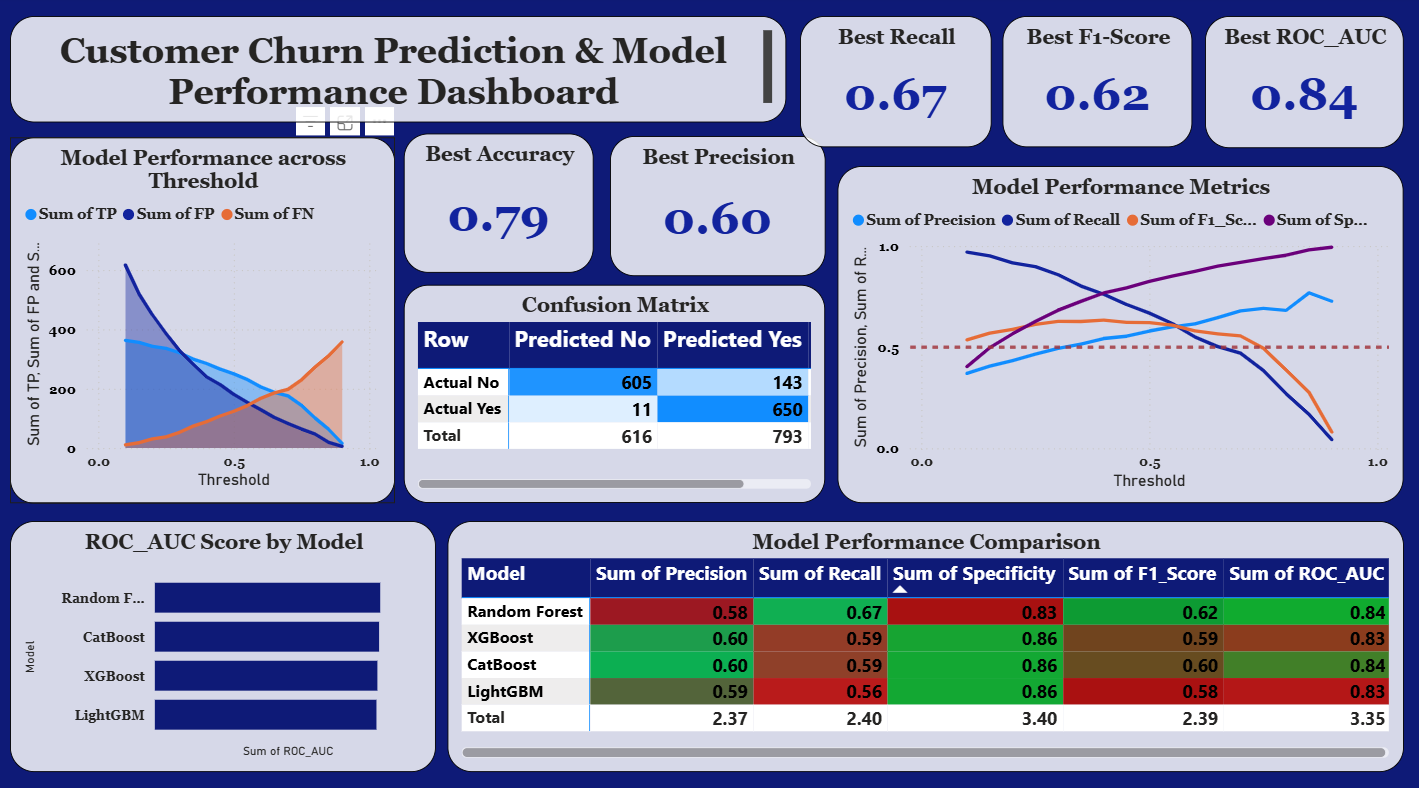

The dashboard page shown, as its layout file describes it:
{"tool":"powerbi","page":{"name":"Model performance","canvas":[1280,720],"ordinal":3},"visuals":[{"type":"cardVisual","title":"Best Accuracy","fields":{"Data":["Max(01_model_metrics.Accuracy)"]},"box":[364.3,124.3,171.4,125.7],"z":0},{"type":"pivotTable","title":"Model Performance Comparison","fields":{"Rows":["01_model_metrics.Model"],"Values":["Sum(01_model_metrics.Precision)","Sum(01_model_metrics.Recall)","Sum(01_model_metrics.Specificity)","Sum(01_model_metrics.F1_Score)","Sum(01_model_metrics.ROC_AUC)"]},"box":[403,473.9,862.1,226.4],"z":1000},{"type":"clusteredBarChart","title":"ROC_AUC Score by Model","fields":{"Category":["01_model_metrics.Model"],"Y":["Sum(01_model_metrics.ROC_AUC)"]},"box":[8.7,473.9,384.4,226.4],"z":2000},{"type":"cardVisual","title":"Best F1-Score","fields":{"Data":["Max(01_model_metrics.F1_Score)"]},"box":[904.3,18.6,171.4,118.6],"z":3000},{"type":"cardVisual","title":"Best ROC_AUC","fields":{"Data":["Max(01_model_metrics.ROC_AUC)"]},"box":[1086.5,18,179.2,119.5],"z":4000},{"type":"cardVisual","title":"Best Precision","fields":{"Data":["Max(01_model_metrics.Precision)"]},"box":[550,126.7,194.4,126.7],"z":5000},{"type":"cardVisual","title":"Best Recall","fields":{"Data":["Max(01_model_metrics.Recall)"]},"box":[721.4,18.6,172.9,118.6],"z":6000},{"type":"pivotTable","title":"Confusion Matrix","fields":{"Rows":["CM_Table.Row"],"Columns":["CM_Table.Col"],"Values":["Sum(CM_Table.Value)"]},"box":[364.3,260,380,197.1],"z":7000},{"type":"lineChart","title":"Model Performance Metrics","fields":{"Category":["05_threshold_analysis.Threshold"],"Y":["Sum(05_threshold_analysis.Precision)","Sum(05_threshold_analysis.Recall)","Sum(05_threshold_analysis.F1_Score)","Sum(05_threshold_analysis.Specificity)"]},"box":[755.7,152.9,510,304.3],"z":8000},{"type":"areaChart","title":"Model Performance across Threshold","fields":{"Category":["05_threshold_analysis.Threshold"],"Y":["Sum(05_threshold_analysis.TP)","Sum(05_threshold_analysis.FP)","Sum(05_threshold_analysis.FN)"]},"box":[8.6,127.1,347.1,330],"z":9000},{"type":"textbox","box":[8.6,18.6,700,95.7],"z":10000}]}

Visuals, with their boxes in screenshot pixels (x1, y1, x2, y2), scaled from the page's 1280x720 canvas onto the 1419x788 screenshot:
"Best Accuracy" cardVisual: pyautogui.locateOnScreen(404, 136, 594, 274)
"Model Performance Comparison" pivotTable: pyautogui.locateOnScreen(447, 519, 1402, 766)
"ROC_AUC Score by Model" clusteredBarChart: pyautogui.locateOnScreen(10, 519, 436, 766)
"Best F1-Score" cardVisual: pyautogui.locateOnScreen(1003, 20, 1193, 150)
"Best ROC_AUC" cardVisual: pyautogui.locateOnScreen(1204, 20, 1403, 150)
"Best Precision" cardVisual: pyautogui.locateOnScreen(610, 139, 825, 277)
"Best Recall" cardVisual: pyautogui.locateOnScreen(800, 20, 991, 150)
"Confusion Matrix" pivotTable: pyautogui.locateOnScreen(404, 285, 825, 500)
"Model Performance Metrics" lineChart: pyautogui.locateOnScreen(838, 167, 1403, 500)
"Model Performance across Threshold" areaChart: pyautogui.locateOnScreen(10, 139, 394, 500)
textbox: pyautogui.locateOnScreen(10, 20, 786, 125)
